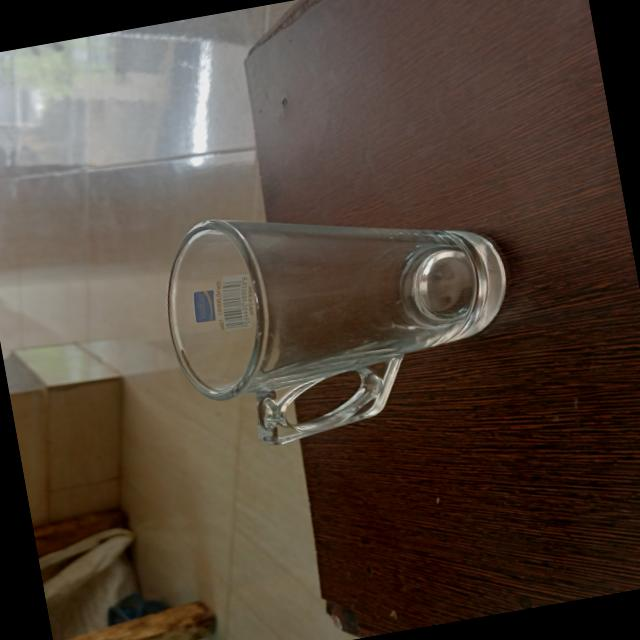glass-VX4N: (150, 169, 531, 460)
